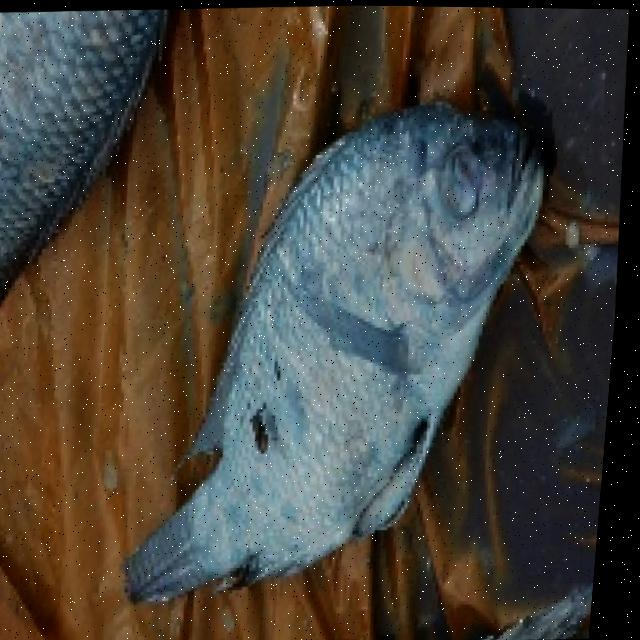Non-Fresh: (205, 77, 506, 548)
